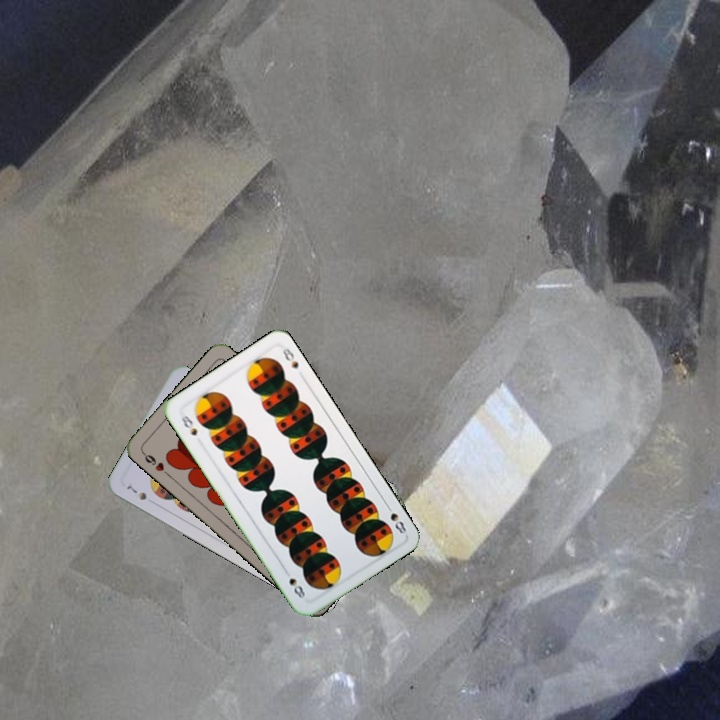H9: (138, 448, 172, 479)
S7: (122, 481, 149, 503)
S8: (381, 500, 409, 536), (177, 411, 200, 439)
